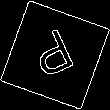P_SE: (28, 24, 82, 86)
